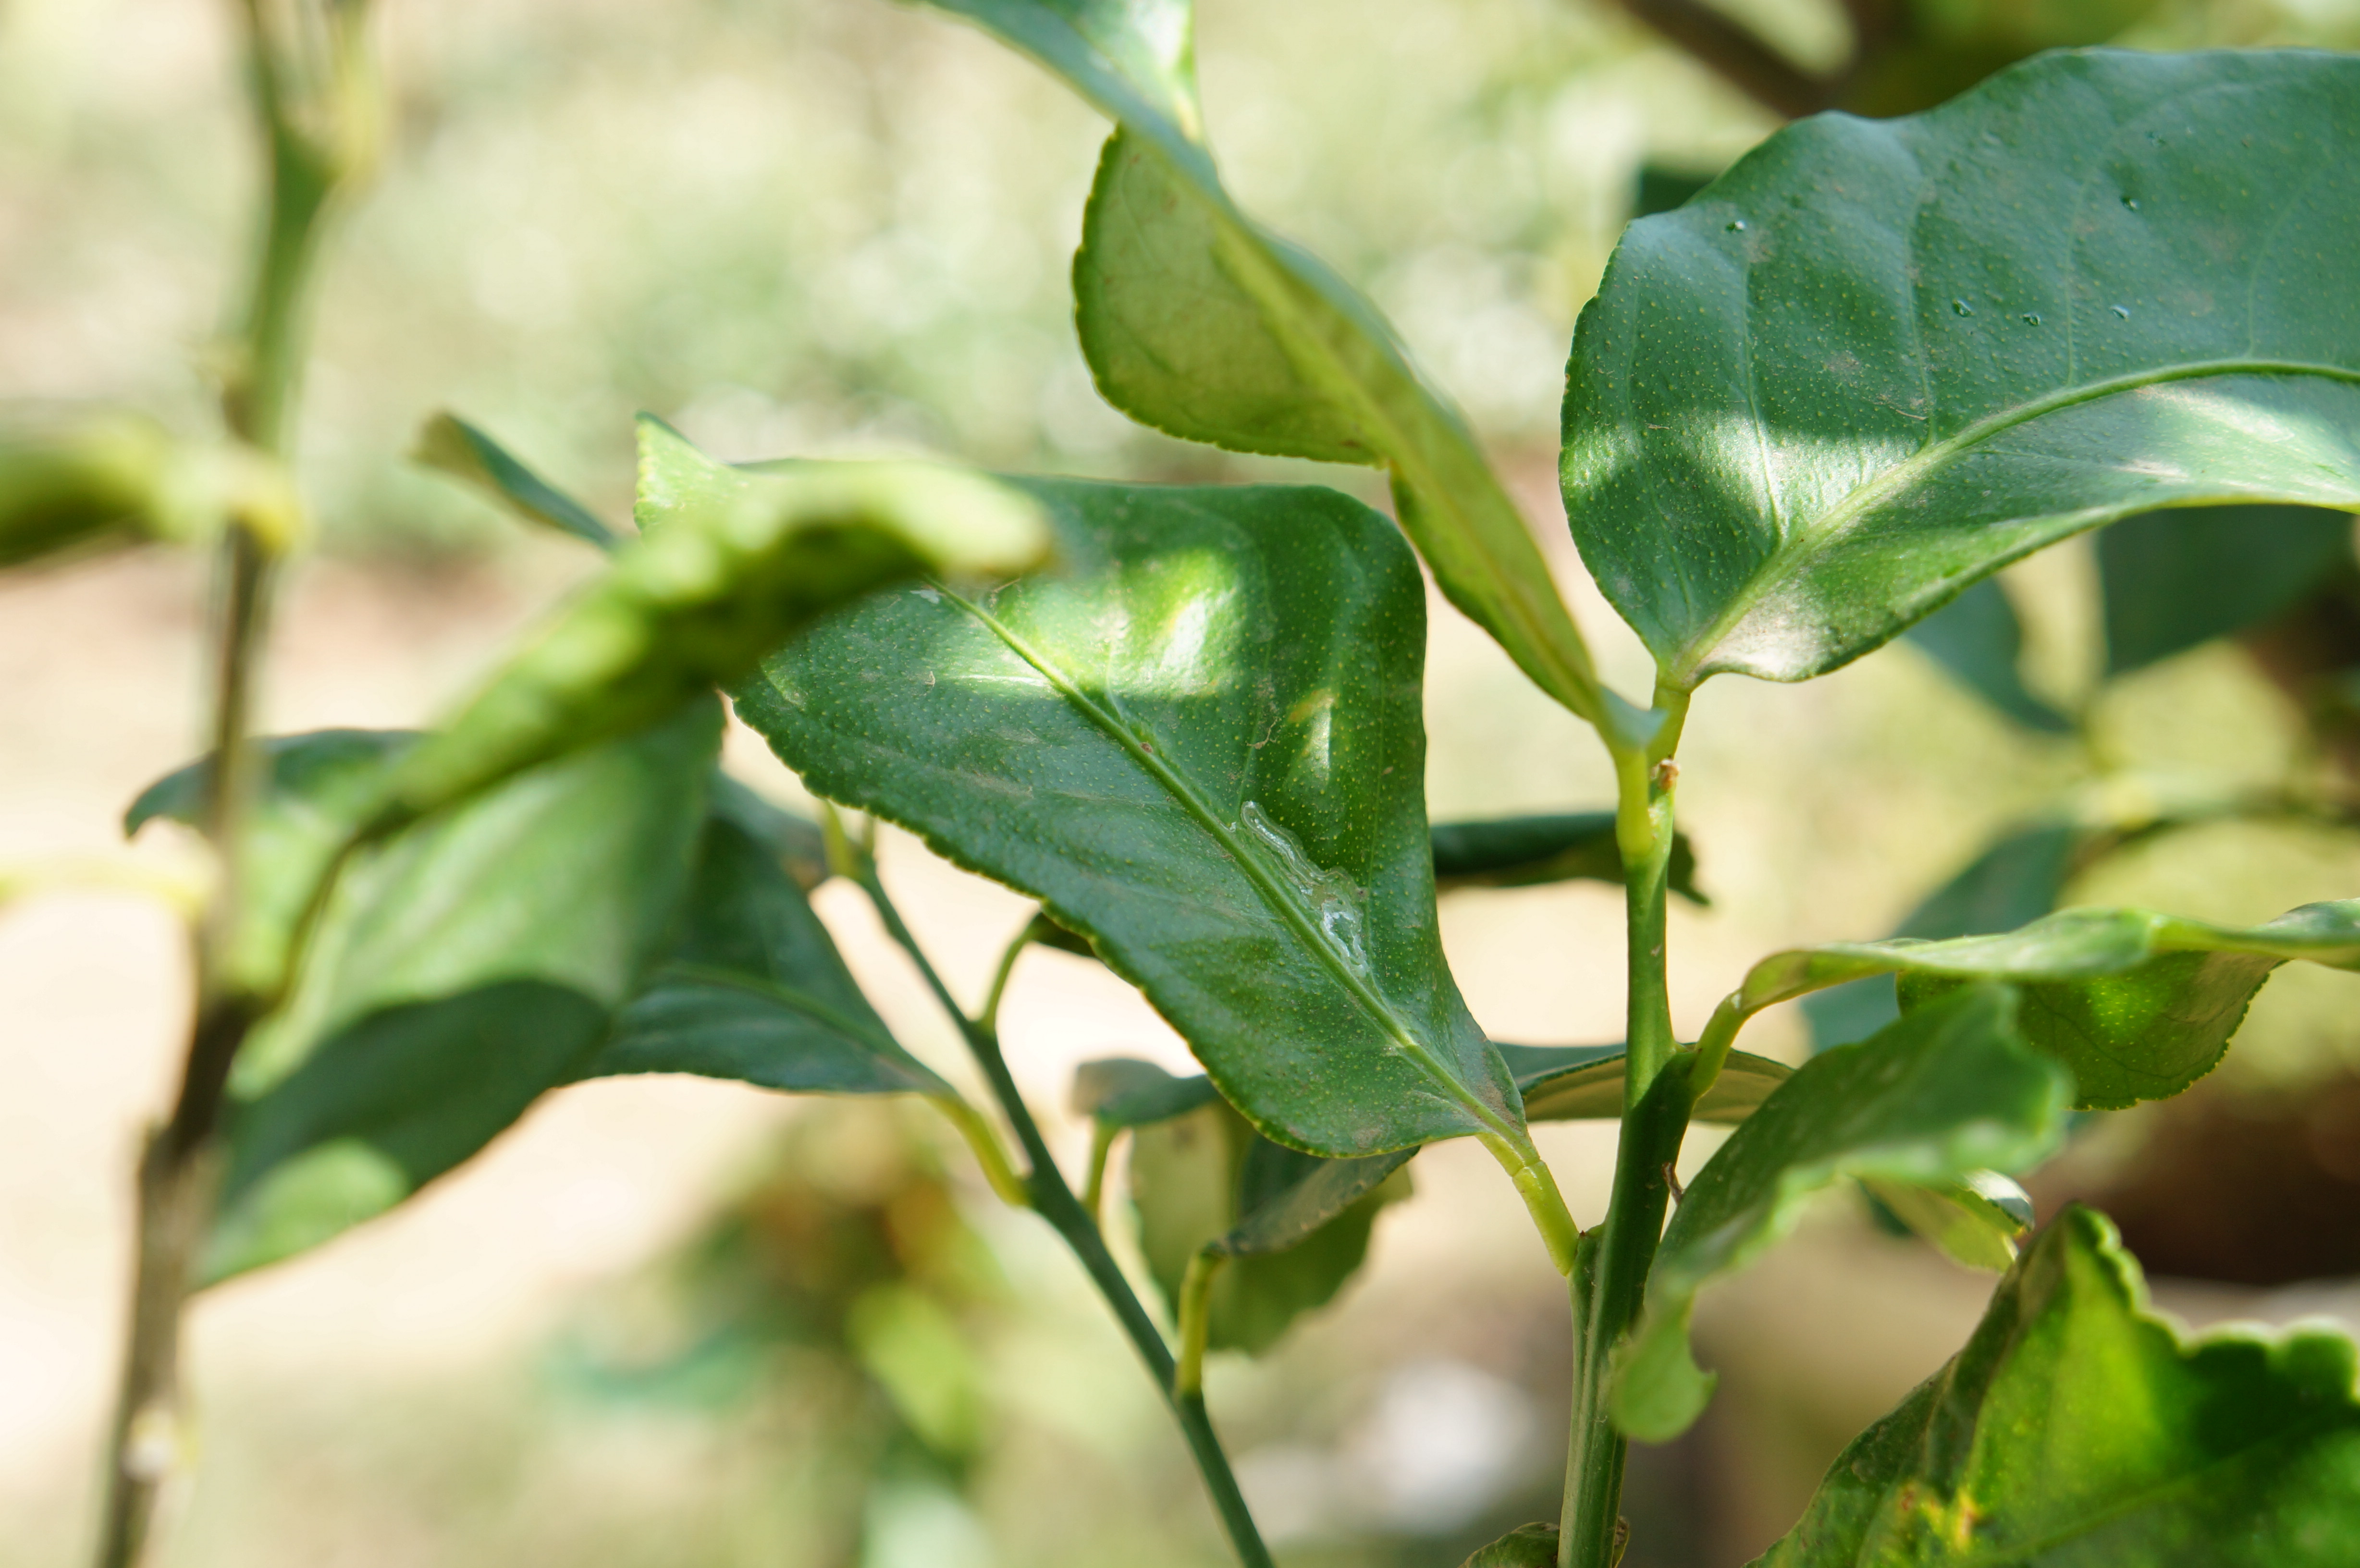damage: (1221, 794, 1405, 1020)
